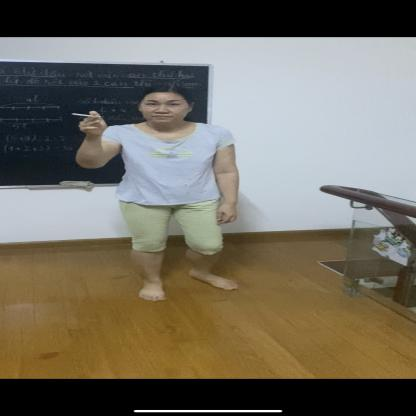cigarette: (70, 112, 96, 118)
person: (76, 78, 242, 306)
